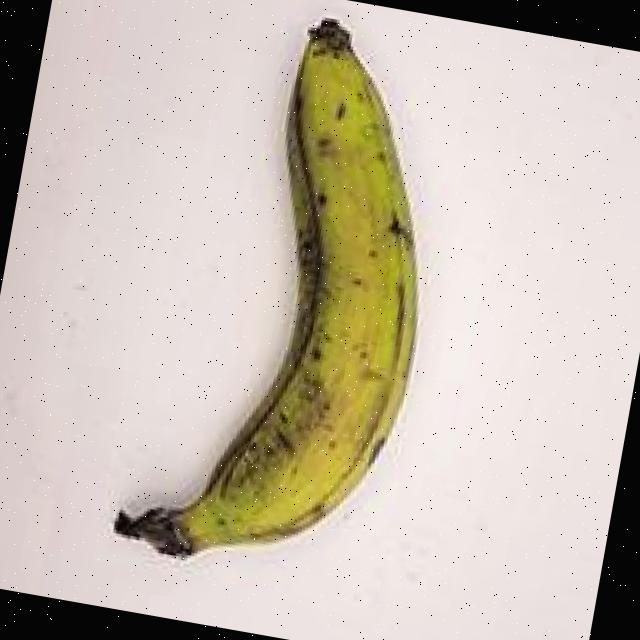Overripe: (91, 0, 502, 619)
